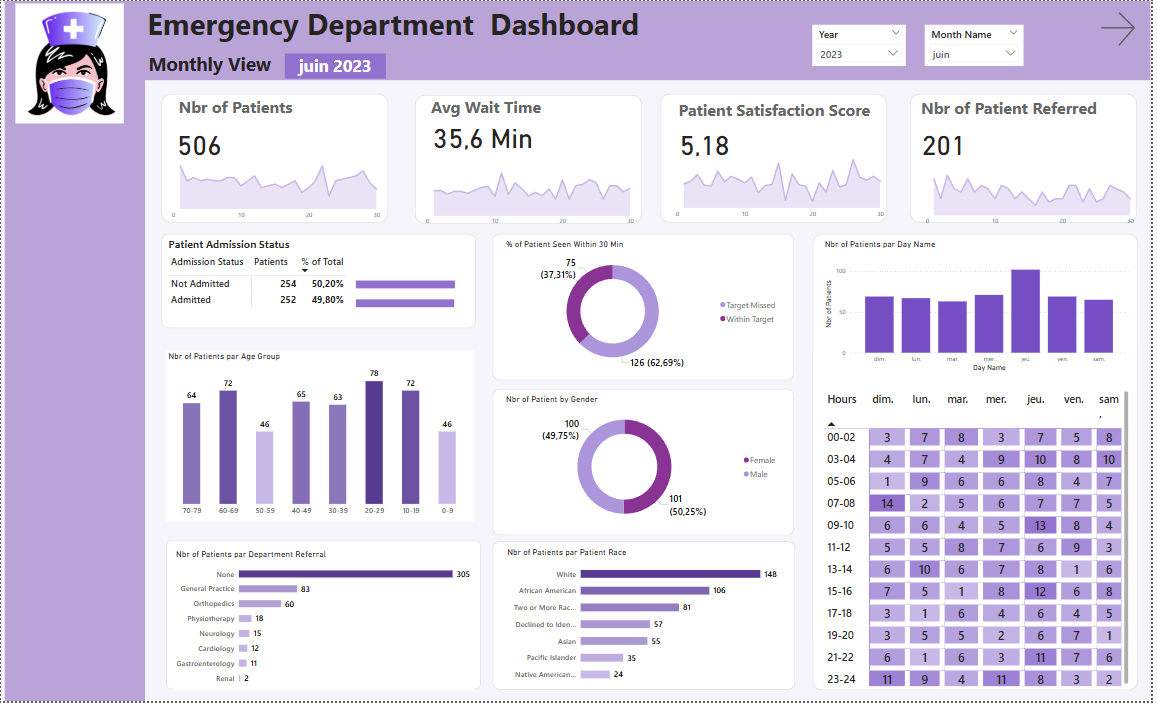

The dashboard page shown, as its layout file describes it:
{"tool":"powerbi","page":{"name":"Dashbord 1","canvas":[2300,1400],"ordinal":0},"visuals":[{"type":"shape","box":[320,464,630,190],"z":0},{"type":"shape","box":[320,186,455,259],"z":1000},{"type":"shape","box":[7.1,0,280.6,1400.5],"z":2000},{"type":"shape","box":[288.6,0,2011.4,158.6],"z":3000},{"type":"textbox","box":[288.7,0,1077.8,105.9],"z":4000},{"type":"card","fields":{"Values":["Hospital ER_Data.Nbr of Patients"]},"box":[330,248,132,68],"z":5000},{"type":"textbox","box":[350,186,248,62],"z":6000},{"type":"slicer","fields":{"Values":["Date Table.Year"]},"box":[1622.5,47.5,187.5,82.5],"z":7000},{"type":"slicer","fields":{"Values":["Date Table.Month Name"]},"box":[1847.5,47.5,197.5,82.5],"z":8000},{"type":"textbox","box":[290,94,292,62],"z":9000},{"type":"card","fields":{"Values":["Min(Date Table.Month & Year)"]},"box":[568,106,202,50],"z":10000},{"type":"shape","box":[828.3,186.7,455,258.3],"z":11000},{"type":"shape","box":[1318.7,186,455,259],"z":12000},{"type":"shape","box":[1818,186,455,259],"z":13000},{"type":"textbox","box":[856,186,248,62],"z":14000},{"type":"areaChart","fields":{"Category":["Date Table.Date.Variation.Hiérarchie de dates.Jour"],"Y":["Hospital ER_Data.Nbr of Patients"]},"box":[330,302,436,144],"z":15000},{"type":"areaChart","fields":{"Category":["Date Table.Date.Variation.Hiérarchie de dates.Jour"],"Y":["Avg(Hospital ER_Data.Patient Waittime)"]},"box":[838,316,436,144],"z":16000},{"type":"card","fields":{"Values":["Hospital ER_Data.Avg Wait Time"]},"box":[856,234,218,68],"z":17000},{"type":"textbox","box":[1350,190,424,62],"z":18000},{"type":"card","fields":{"Values":["Hospital ER_Data.Satisfaction Score"]},"box":[1328,248,158,68],"z":19000},{"type":"areaChart","fields":{"Category":["Date Table.Date.Variation.Hiérarchie de dates.Jour"],"Y":["Hospital ER_Data.Satisfaction Score"]},"box":[1338,300,436,144],"z":20000},{"type":"textbox","box":[1834,188,424,62],"z":21000},{"type":"card","fields":{"Values":["Hospital ER_Data.Nbr of Patient Referred"]},"box":[1818,250,136,66],"z":22000},{"type":"areaChart","fields":{"Category":["Date Table.Date.Variation.Hiérarchie de dates.Jour"],"Y":["Hospital ER_Data.Nbr of Patient Referred"]},"box":[1838,316,436,144],"z":23000},{"type":"pivotTable","title":"Patient Admission Status","fields":{"Rows":["Hospital ER_Data.Admission Status"],"Values":["Hospital ER_Data.Nbr of Patients1","Hospital ER_Data.Nbr of Patients"]},"box":[330,473.3,376.7,158.3],"z":24000},{"type":"barChart","fields":{"Category":["Hospital ER_Data.Admission Status"],"Y":["Hospital ER_Data.Nbr of Patients"]},"box":[706,528,244,112],"z":25000},{"type":"shape","box":[330,1078,630,300],"z":26000},{"type":"clusteredColumnChart","fields":{"Category":["Hospital ER_Data.Age Group"],"Y":["Hospital ER_Data.Nbr of Patients"]},"box":[330,700,616,340],"z":27000},{"type":"clusteredBarChart","fields":{"Category":["Hospital ER_Data.Department Referral"],"Y":["Hospital ER_Data.Nbr of Patients"]},"box":[346,1094,600,284],"z":28000},{"type":"shape","box":[982,464,604,294],"z":29000},{"type":"donutChart","title":"% of Patient Seen Within 30 Min ","fields":{"Category":["Hospital ER_Data.Waittime Status"],"Y":["Hospital ER_Data.Nbr of Patient Referred"]},"box":[1006,476,558,272],"z":30000},{"type":"shape","box":[982,776,604,294],"z":31000},{"type":"donutChart","title":"Nbr of Patient by Gender","fields":{"Y":["Hospital ER_Data.Nbr of Patient Referred"],"Category":["Hospital ER_Data.Patient Gender"]},"box":[1006,786,558,274],"z":32000},{"type":"shape","box":[982,1080,606,298],"z":33000},{"type":"clusteredBarChart","fields":{"Y":["Hospital ER_Data.Nbr of Patients"],"Category":["Hospital ER_Data.Patient Race"]},"box":[1008,1092,556,282],"z":34000},{"type":"shape","box":[1622,464,652,914],"z":35000},{"type":"pivotTable","fields":{"Rows":["Hospital ER_Data.Waittime Interval"],"Columns":["Date Table.Day Name"],"Values":["Hospital ER_Data.Nbr of Patients"]},"box":[1642.5,775,617.5,600],"z":36000},{"type":"columnChart","fields":{"Category":["Date Table.Day Name"],"Y":["Hospital ER_Data.Nbr of Patients"]},"box":[1642.5,475,617.5,272.5],"z":37000},{"type":"actionButton","box":[2192.5,7.5,82.5,97.5],"z":38000},{"type":"image","box":[0,0,275,250],"z":39000}]}

Visuals, with their boxes in screenshot pixels (x1, y1, x2, y2), scaled from the page's 2300x1400 canvas onto the 1157x705 screenshot:
shape: l=161, t=234, r=478, b=329
shape: l=161, t=94, r=390, b=224
shape: l=4, t=0, r=145, b=704
shape: l=145, t=0, r=1156, b=80
textbox: l=145, t=0, r=687, b=53
card - Hospital ER_Data.Nbr of Patients: l=166, t=125, r=232, b=159
textbox: l=176, t=94, r=301, b=125
slicer - Date Table.Year: l=816, t=24, r=911, b=65
slicer - Date Table.Month Name: l=929, t=24, r=1029, b=65
textbox: l=146, t=47, r=293, b=79
card - Min(Date Table.Month & Year): l=286, t=53, r=387, b=79
shape: l=417, t=94, r=646, b=224
shape: l=663, t=94, r=892, b=224
shape: l=915, t=94, r=1143, b=224
textbox: l=431, t=94, r=555, b=125
areaChart - Date Table.Date.Variation.Hiérarchie de dates.Jour x Hospital ER_Data.Nbr of Patients: l=166, t=152, r=385, b=225
areaChart - Date Table.Date.Variation.Hiérarchie de dates.Jour x Avg(Hospital ER_Data.Patient Waittime): l=422, t=159, r=641, b=232
card - Hospital ER_Data.Avg Wait Time: l=431, t=118, r=540, b=152
textbox: l=679, t=96, r=892, b=127
card - Hospital ER_Data.Satisfaction Score: l=668, t=125, r=748, b=159
areaChart - Date Table.Date.Variation.Hiérarchie de dates.Jour x Hospital ER_Data.Satisfaction Score: l=673, t=151, r=892, b=224
textbox: l=923, t=95, r=1136, b=126
card - Hospital ER_Data.Nbr of Patient Referred: l=915, t=126, r=983, b=159
areaChart - Date Table.Date.Variation.Hiérarchie de dates.Jour x Hospital ER_Data.Nbr of Patient Referred: l=925, t=159, r=1144, b=232
"Patient Admission Status" pivotTable: l=166, t=238, r=356, b=318
barChart - Hospital ER_Data.Admission Status x Hospital ER_Data.Nbr of Patients: l=355, t=266, r=478, b=322
shape: l=166, t=543, r=483, b=694
clusteredColumnChart - Hospital ER_Data.Age Group x Hospital ER_Data.Nbr of Patients: l=166, t=352, r=476, b=524
clusteredBarChart - Hospital ER_Data.Department Referral x Hospital ER_Data.Nbr of Patients: l=174, t=551, r=476, b=694
shape: l=494, t=234, r=798, b=382
"% of Patient Seen Within 30 Min " donutChart: l=506, t=240, r=787, b=377
shape: l=494, t=391, r=798, b=539
"Nbr of Patient by Gender" donutChart: l=506, t=396, r=787, b=534
shape: l=494, t=544, r=799, b=694
clusteredBarChart - Hospital ER_Data.Nbr of Patients x Hospital ER_Data.Patient Race: l=507, t=550, r=787, b=692
shape: l=816, t=234, r=1144, b=694
pivotTable - Hospital ER_Data.Waittime Interval x Date Table.Day Name: l=826, t=390, r=1137, b=692
columnChart - Date Table.Day Name x Hospital ER_Data.Nbr of Patients: l=826, t=239, r=1137, b=376
actionButton: l=1103, t=4, r=1144, b=53
image: l=0, t=0, r=138, b=126
